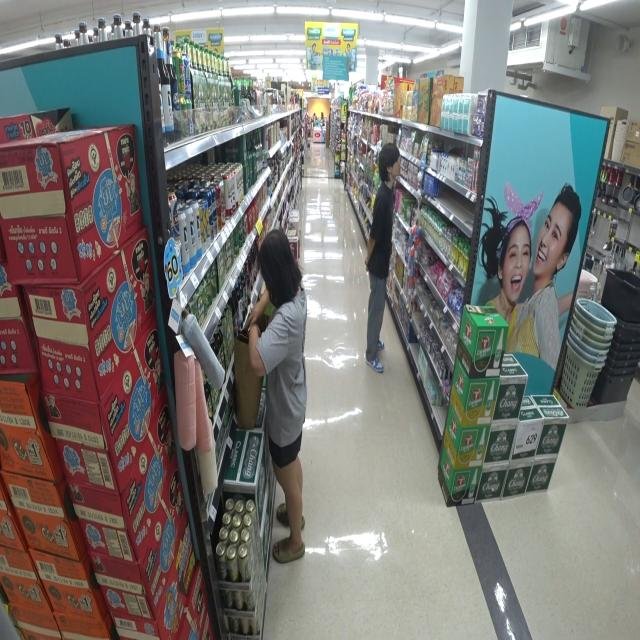shoplifting: (236, 230, 311, 563)
